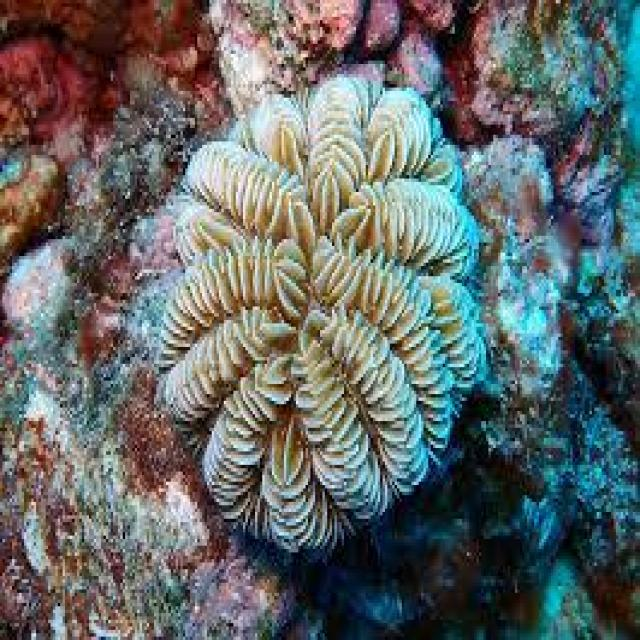Coral: (152, 72, 488, 554)
